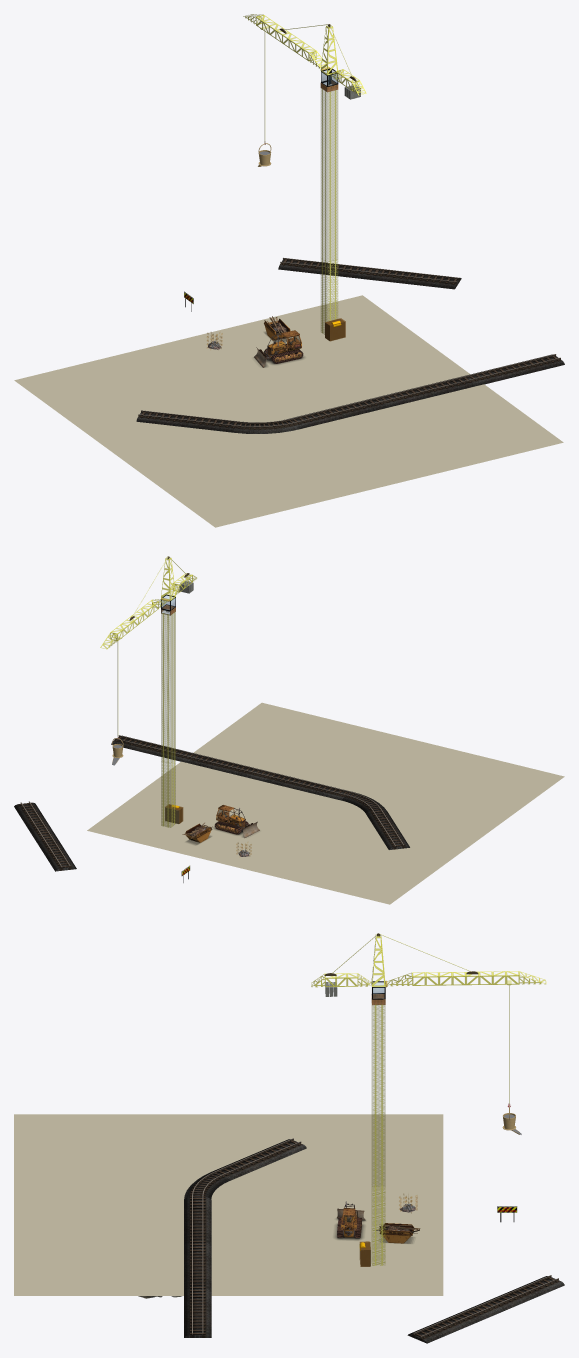
3 renders of one model, top to bottom at view 1: azimuth 30°, elevation 25°; view 2: azimuth 150°, elevation 25°; view 3: azimuth 270°, elevation 25°, orthographic. The views are drawn at different scales.
Parts seen in each view (by area): view 1: Terrain 7,3, TRACKSTRAIGHT16 Rail (×6), Crane Upper Part - toucht to start/stop, Crane_Upper Part, Train TRACKCURVE 01 prim; view 2: Terrain 7,3, TRACKSTRAIGHT16 Rail (×6), Crane Upper Part - toucht to start/stop, Crane_Upper Part, vehicule cha,tier bulldozer (×2), Train TRACKCURVE 01 prim; view 3: Terrain 7,3, TRACKSTRAIGHT16 Rail (×6), Crane Upper Part - toucht to start/stop, Crane_Upper Part, Train TRACKCURVE 01 prim, !SD! Mesh Builders Dumpster with Rubble.
Part boxes in pixels (box(x1,y1,x2,y2)): Terrain 7,3: box(14, 295, 563, 527); TRACKSTRAIGHT16 Rail (×6): box(136, 257, 564, 432); Crane Upper Part - toucht to start/stop: box(243, 14, 366, 341); Crane_Upper Part: box(321, 258, 338, 334); Train TRACKCURVE 01 prim: box(235, 418, 299, 433); Terrain 7,3: box(87, 702, 564, 904); TRACKSTRAIGHT16 Rail (×6): box(14, 735, 409, 871); Crane Upper Part - toucht to start/stop: box(100, 556, 196, 823); Crane_Upper Part: box(161, 759, 175, 827); vehicule cha,tier bulldozer (×2): box(214, 805, 259, 838); Train TRACKCURVE 01 prim: box(342, 791, 386, 813); Terrain 7,3: box(14, 1114, 443, 1295); TRACKSTRAIGHT16 Rail (×6): box(184, 1138, 564, 1343); Crane Upper Part - toucht to start/stop: box(311, 933, 546, 1266); Crane_Upper Part: box(371, 1184, 385, 1265); Train TRACKCURVE 01 prim: box(184, 1171, 229, 1199); !SD! Mesh Builders Dumpster with Rubble: box(379, 1223, 414, 1243).
Size of what is drawn, in the model's own units: 80.77 by 61.27 by 82.12.
Materials: 44 (39 with a texture image).
